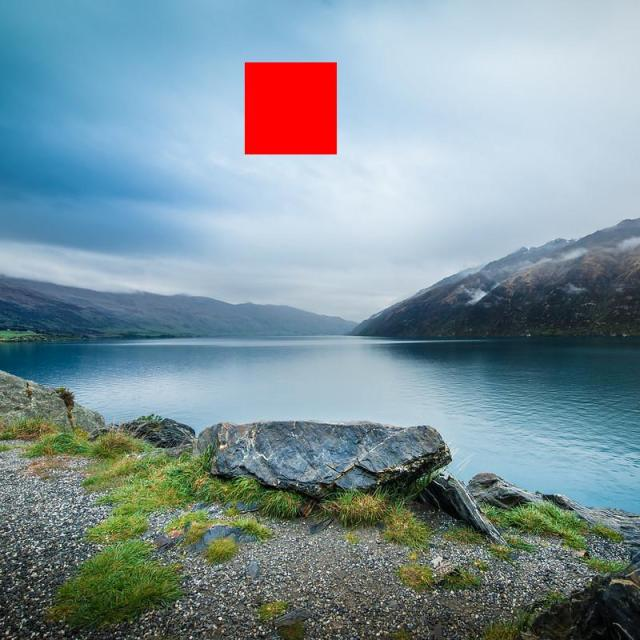RedSquare: (239, 59, 345, 163)
